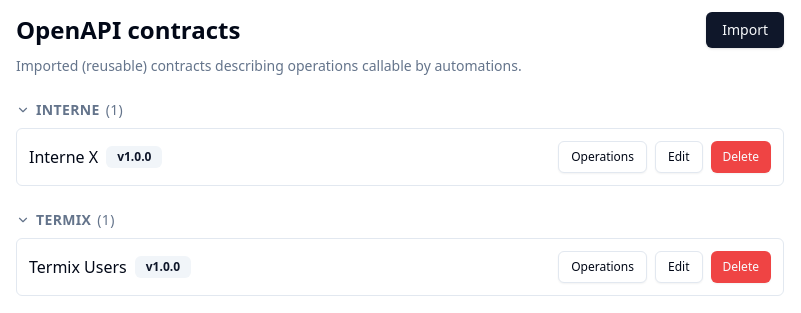
Scenario: AdminContracts — catégories repliables › affiche un en-tête par catégorie et replie/déplie au clic
Expected: the text "Termix Users" is shown, [29,255,127,279]
// Replier → le contrat disparaît
Click the button "Termix (1)".
click(64, 220)  # box [16,210,784,230]
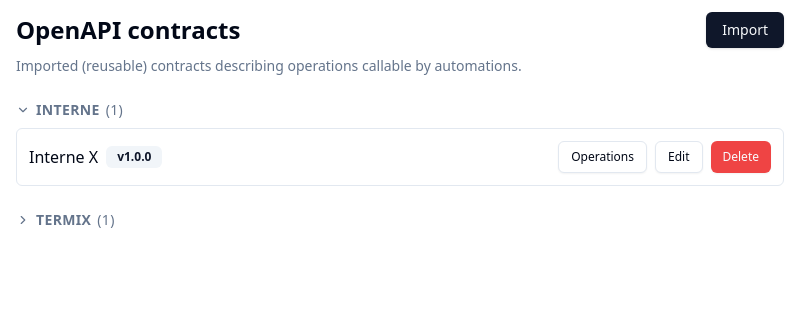
Expected: the text "Interne X" is shown, [29,145,98,169]
Expected: the text "Termix Users" is gone
// Déplier de nouveau
Click the button "Termix (1)".
click(64, 220)  # box [16,210,784,230]
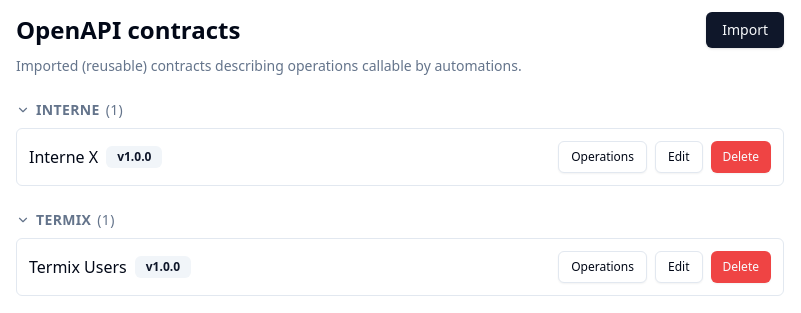
Expected: the text "Termix Users" is shown, [29,255,127,279]
